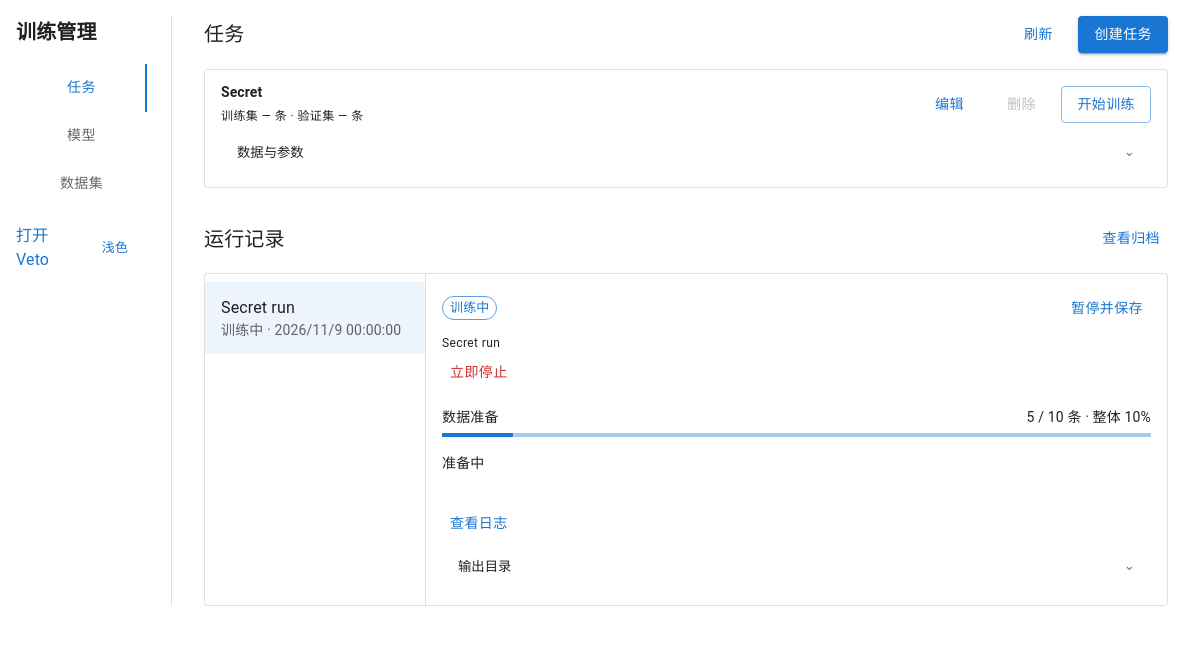
Test: live preparation and training progress rerender when revision does not change
Expected: the text "5 / 10 条 · 整体 10%" is shown, [1026,407,1151,427]
Click the button "刷新".
click(1038, 34)  # box [1006,16,1070,52]
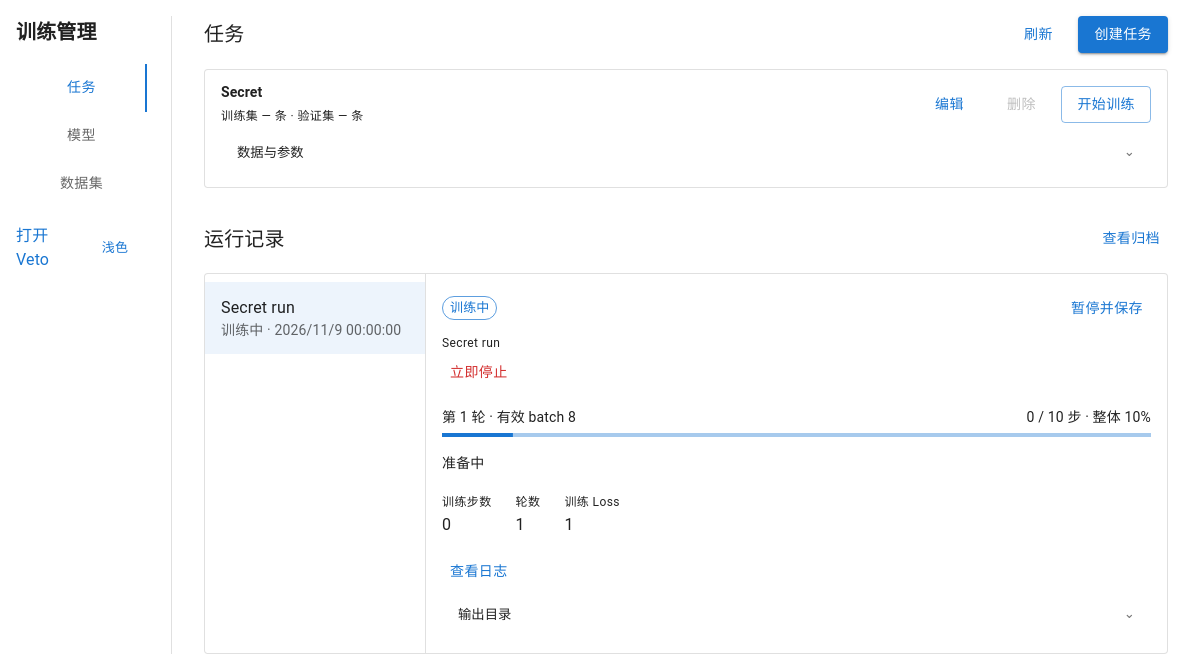
Now the text "0 / 10 步 · 整体 10%" is shown, box [1026,407,1151,427]
Now the text "第 1 轮 · 有效 batch 8" is shown, box [442,407,576,427]
Click the button "刷新".
click(1038, 34)  # box [1006,16,1070,52]
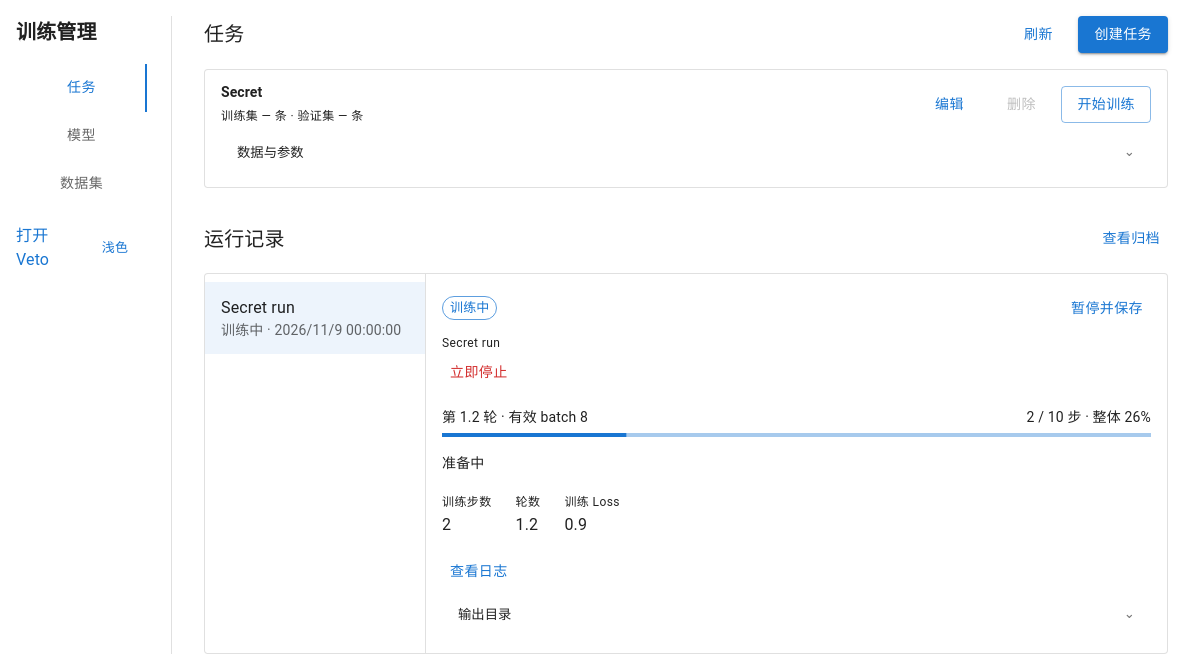
Now the text "2 / 10 步 · 整体 26%" is shown, box [1026,407,1151,427]
